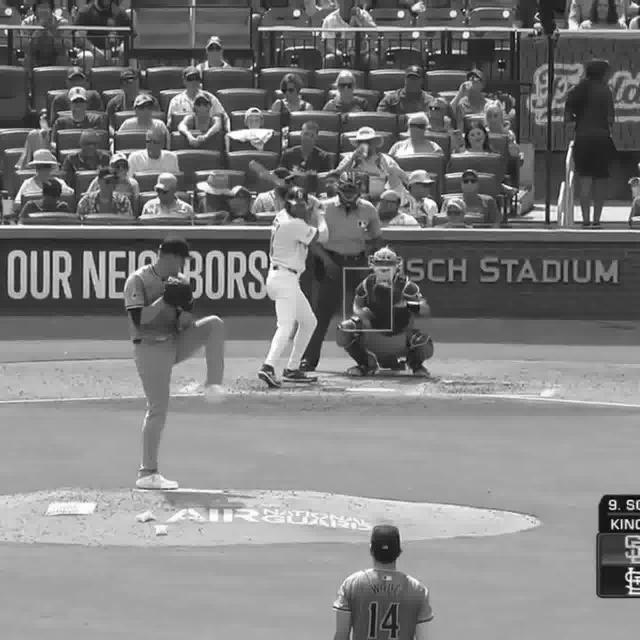base: (345, 384, 393, 394)
baseball_glove: (372, 281, 406, 319), (166, 278, 196, 314)
bat: (250, 154, 326, 208)
shoe: (136, 466, 180, 490), (256, 366, 284, 394), (408, 359, 442, 380), (283, 370, 321, 386), (342, 365, 376, 377), (208, 383, 230, 401)
